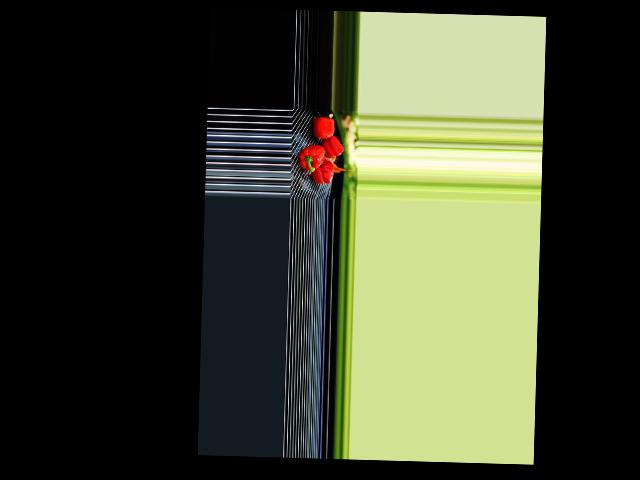bell_pepper: (312, 158, 335, 184)
